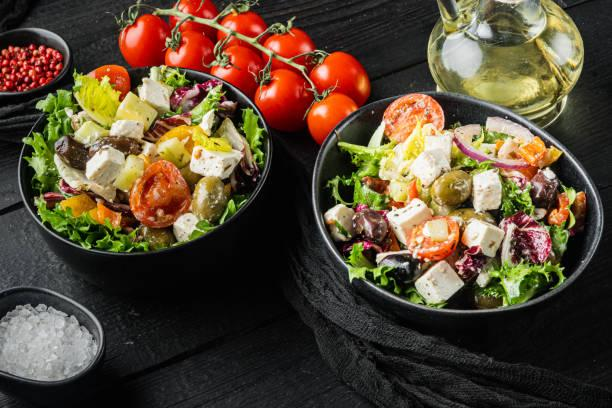Braised Crucian Carp: (311, 91, 594, 324), (17, 65, 276, 276)
